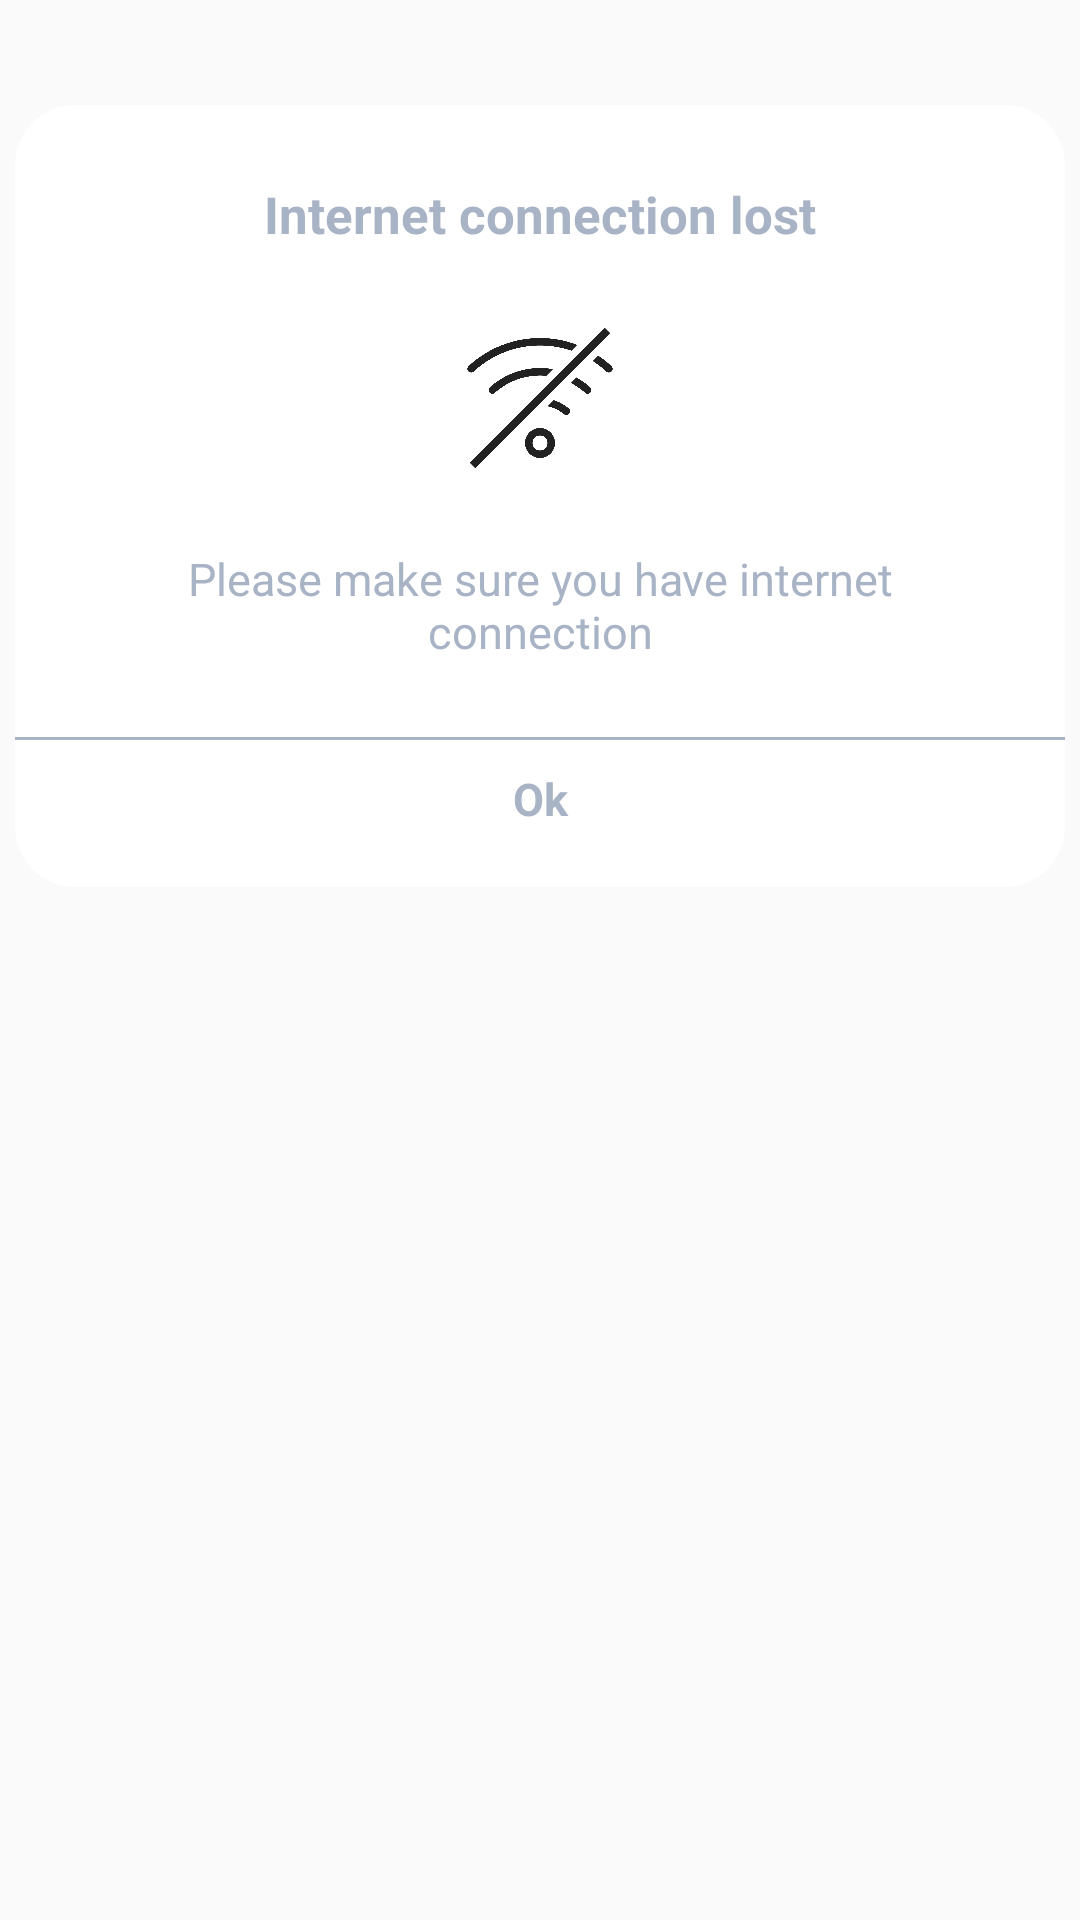

Screen size 1080×1920. Icon name, then its box in pixels as region(x1, y1, x2, y2):
wifi: region(467, 328, 613, 468)
